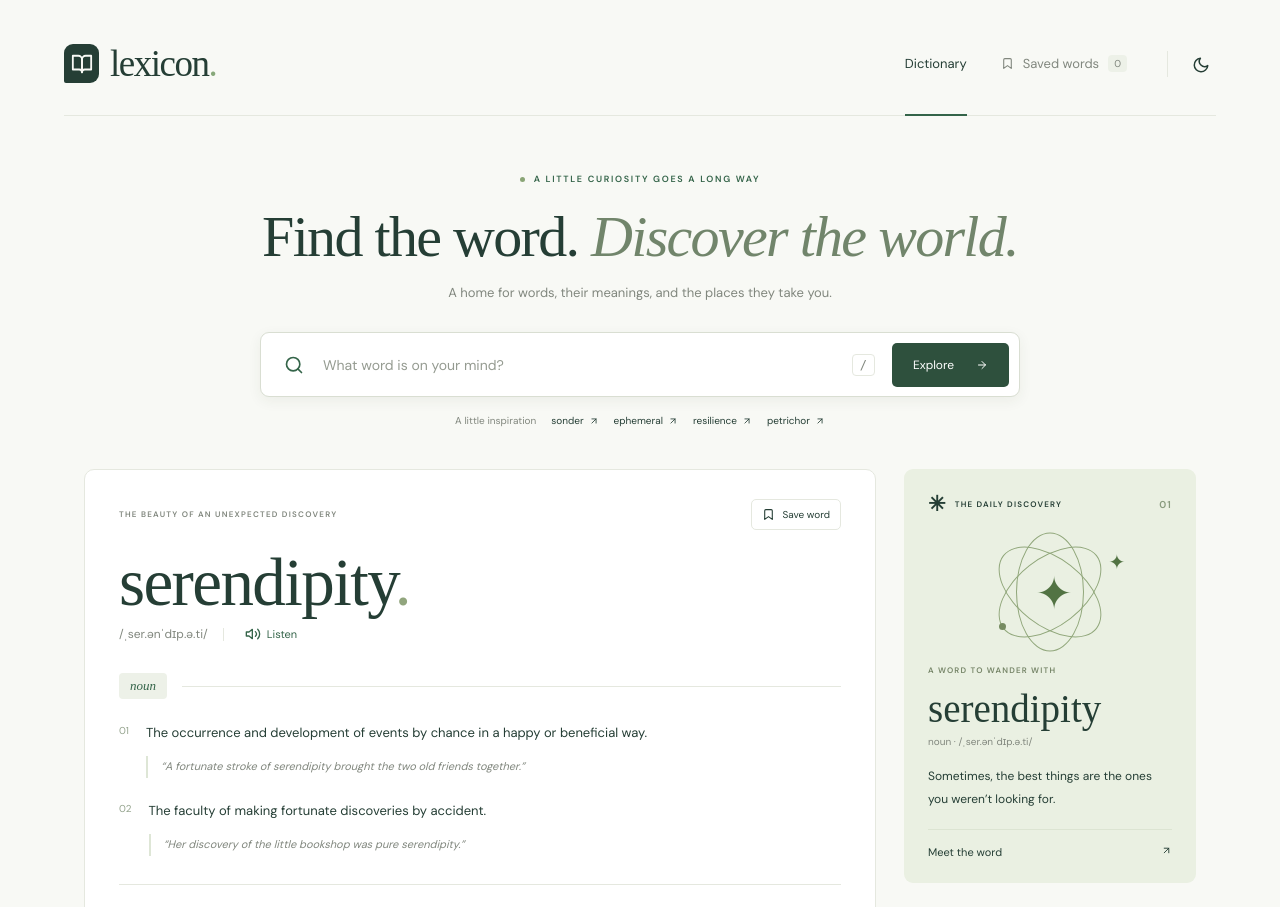
Test case: ignores corrupt stored collections and unavailable storage
Step 1. Click the button "Save word" → click(796, 515), box top-left (751, 499), bottom-right (841, 530)
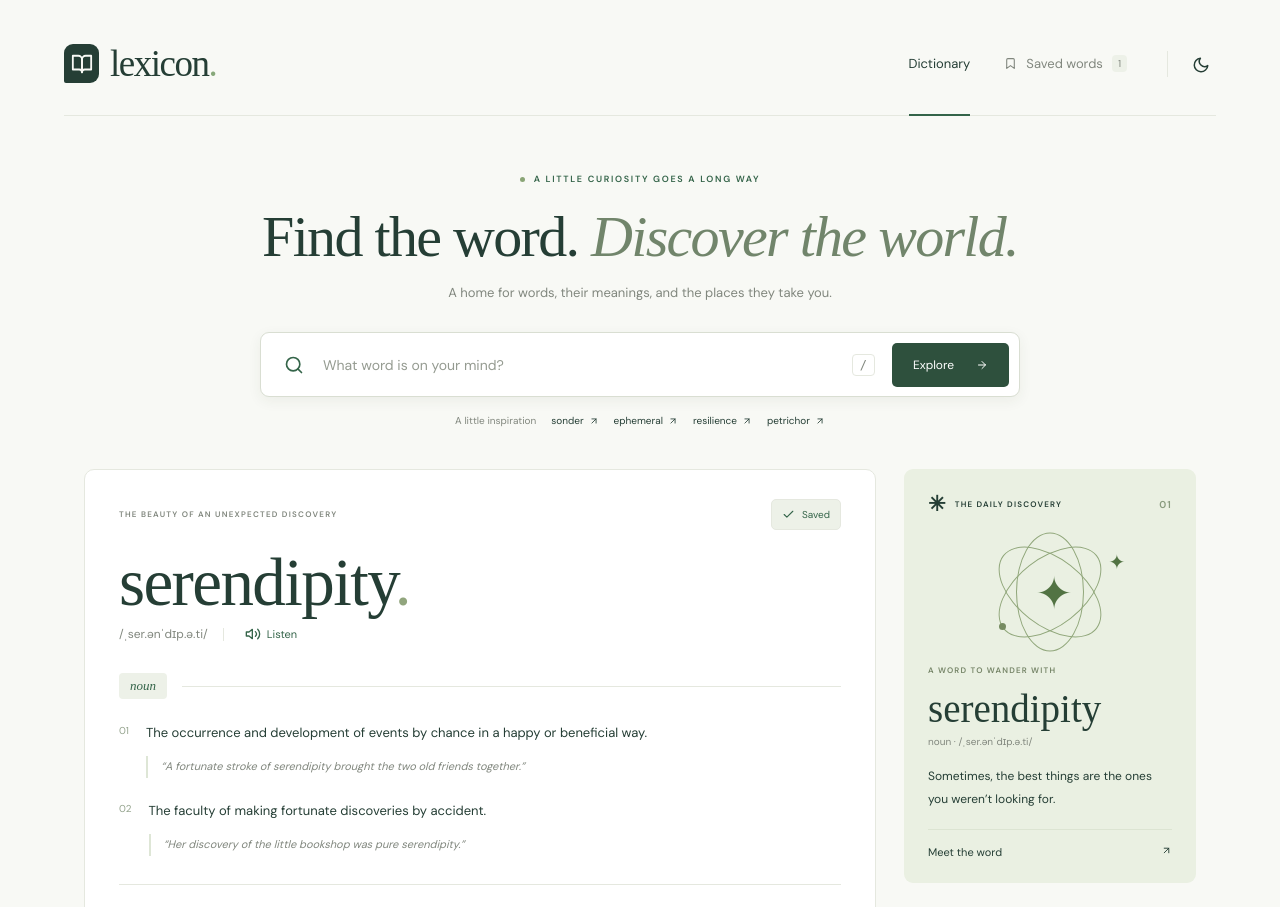
Expected: the button "Saved" is shown, top-left (771, 499), bottom-right (841, 530)
